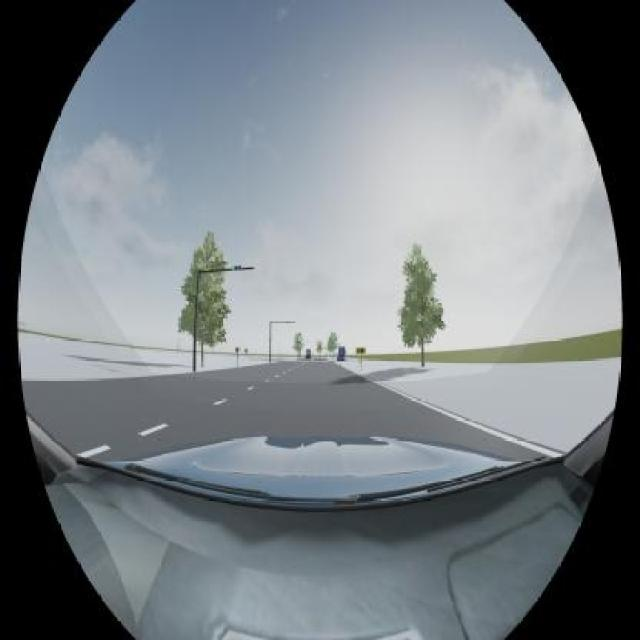forb_speed_over_30: (235, 347, 239, 351)
